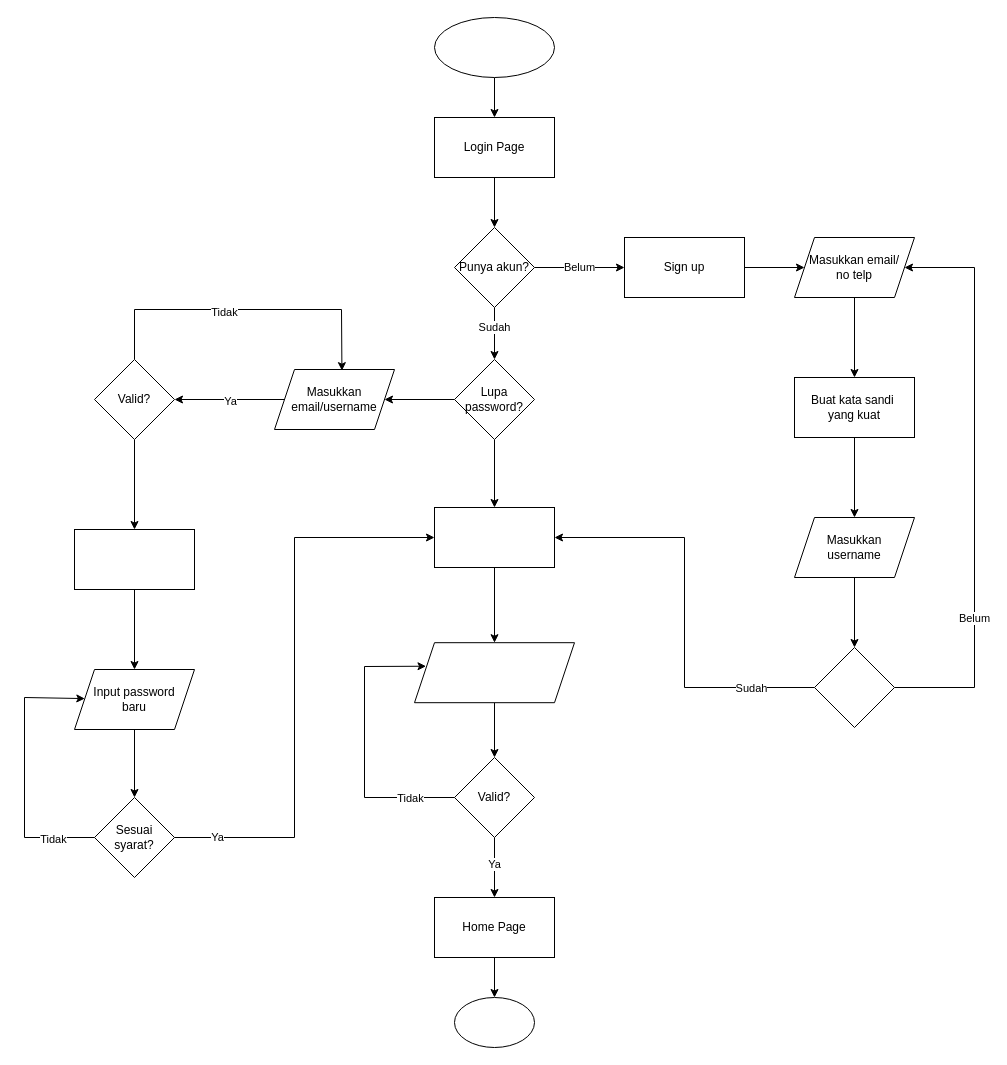
Image size: 1007x1065. Some labels were removed from this diagram. Here are the shapes that lost their labels. From the top down, the centre of each, then its label:
At (x=494, y=47): "START".
At (x=494, y=537): "Login".
At (x=134, y=559): "Mengirim reset password ke email".
At (x=494, y=672): "Masukkan username & password".
At (x=854, y=687): "Verifikasi".
At (x=494, y=1022): "END".
